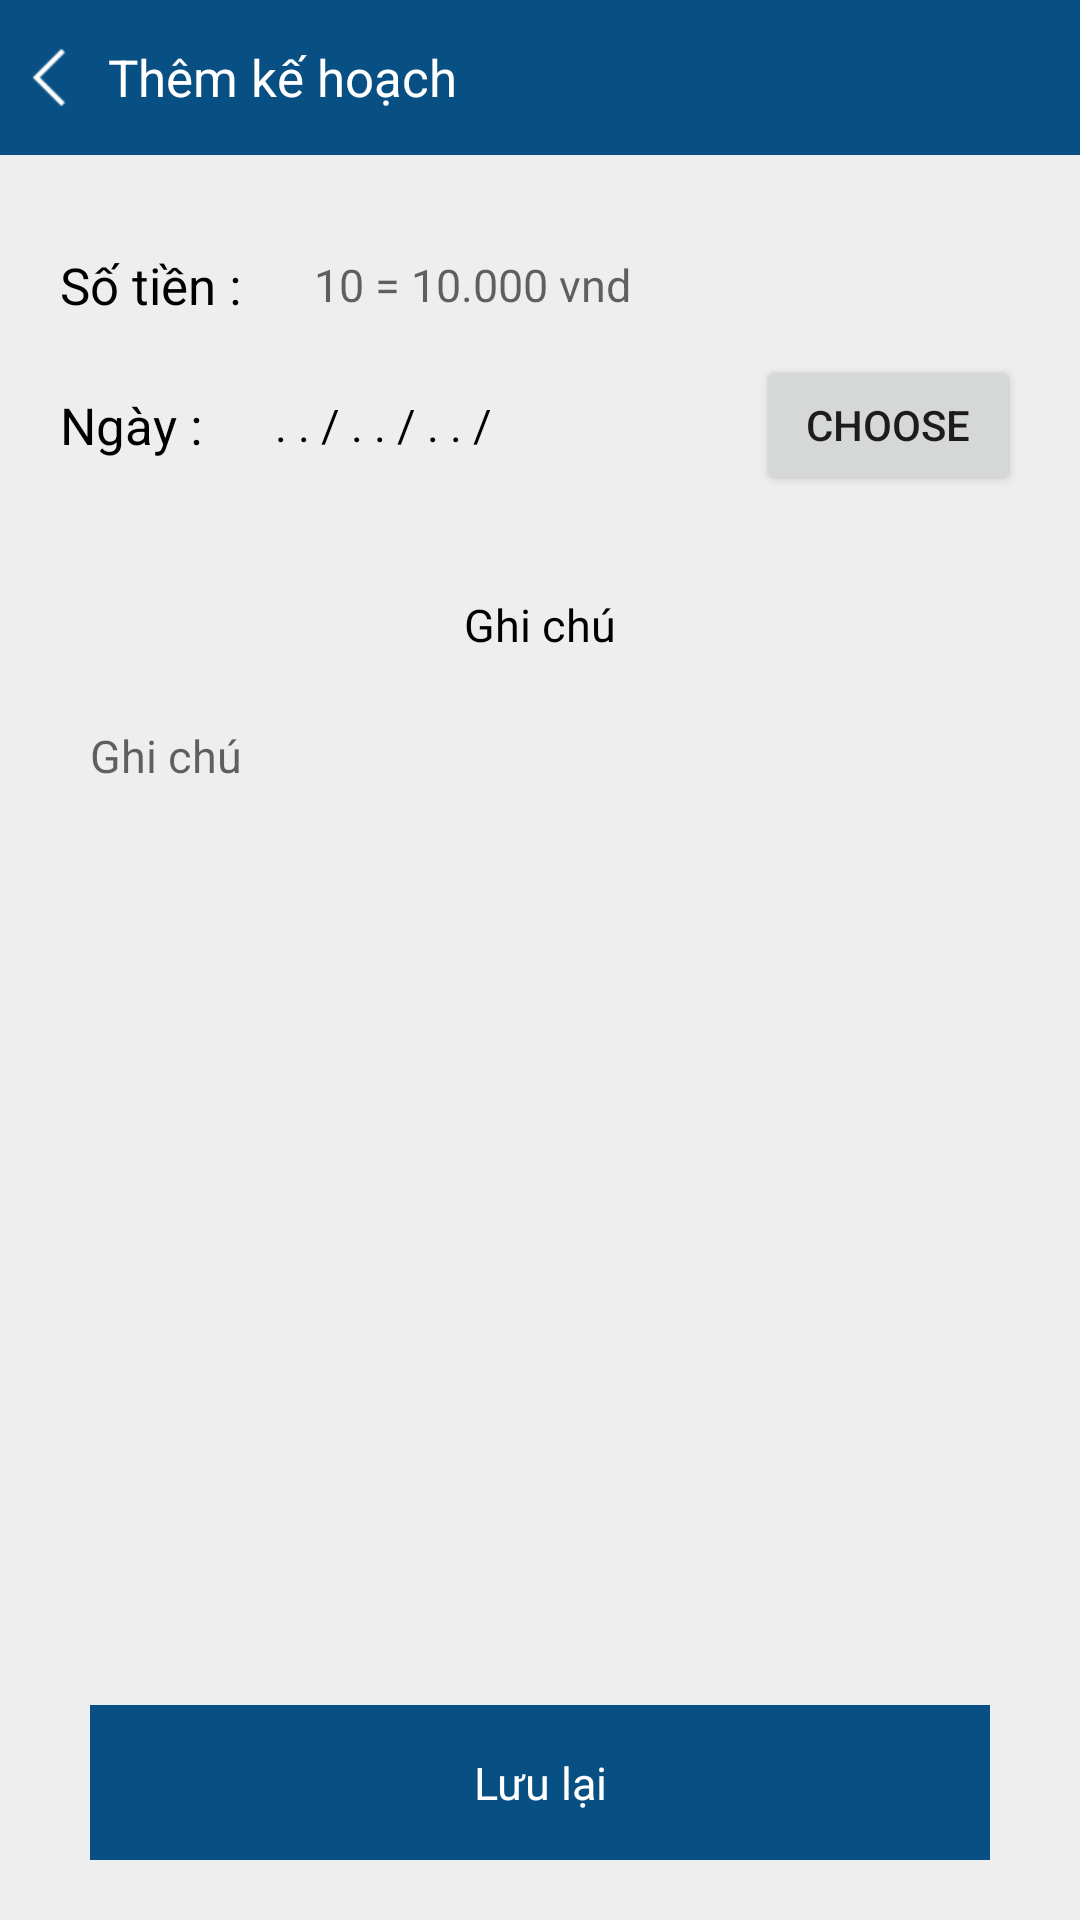

Where icons sit on this 1080 × 1920 app screen, as bbox=[x1, y1, x2, y2]:
back: bbox=[32, 49, 65, 106]
